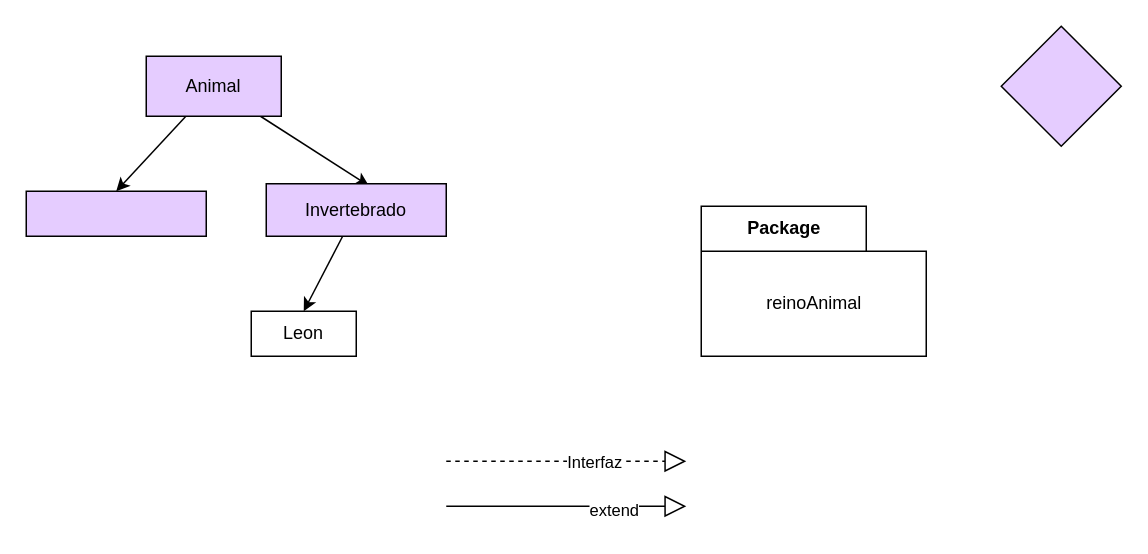
Image size: 1148x554. Some labels were removed from this diagram. The box of each missing label's shape, as (x1, y1, x2, y2) in pixels:
Clasificadores no se crean: (1000, 25, 1121, 146)
Vertebrado: (25, 190, 206, 236)
